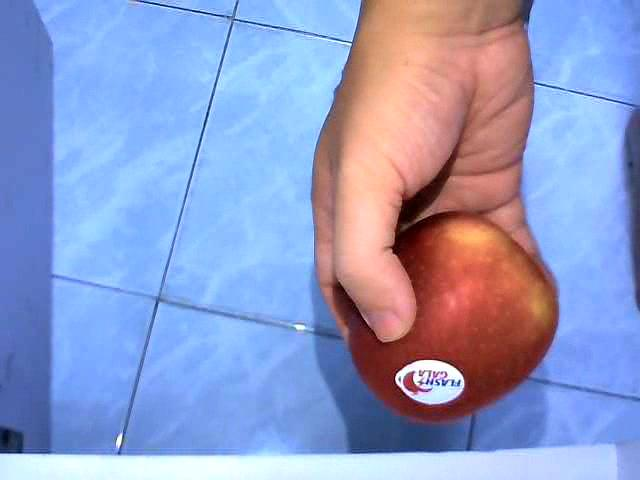apple: (341, 207, 560, 423)
